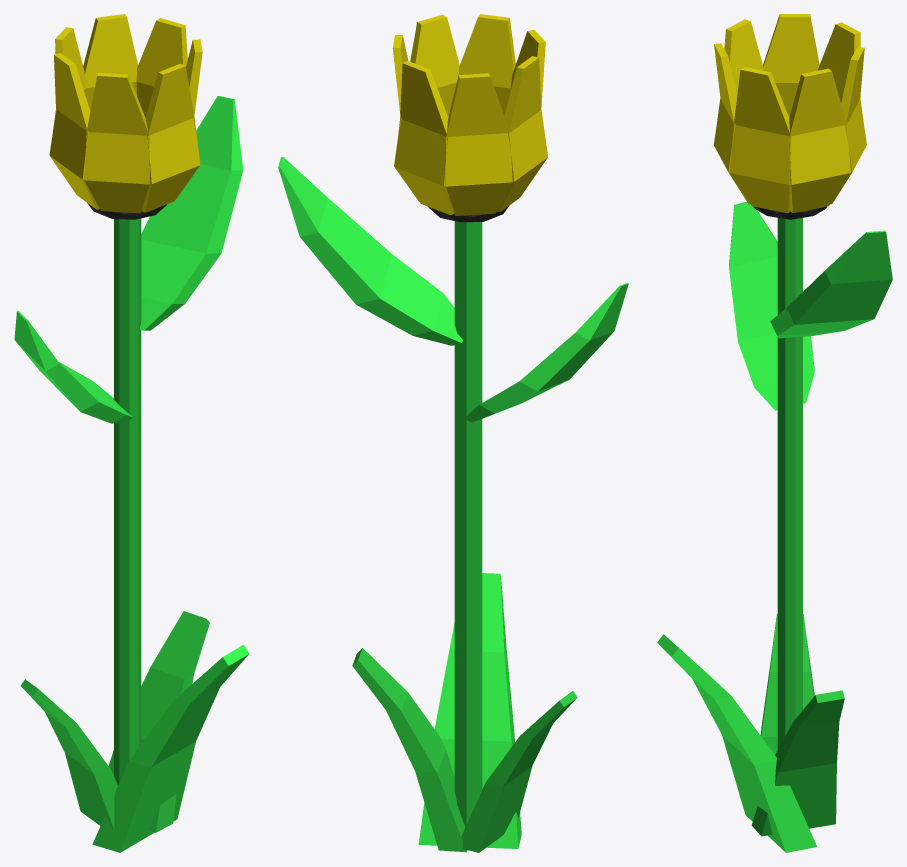
Rendered from sun flower 1.fbx.
3 renders of one model, left to right at view 1: azimuth 30°, elevation 25°; view 2: azimuth 150°, elevation 25°; view 3: azimuth 270°, elevation 25°, orthographic.
Parts seen in each view (by area): view 1: Cube, Cube.001, Cube.006, Cube.004, Cube.003, Cube.002, Cube.005, Icosphere; view 2: Cube, Cube.001, Cube.006, Cube.004, Cube.003, Cube.002, Cube.005; view 3: Cube, Cube.001, Cube.005, Cube.004, Cube.006, Cube.003, Cube.002, Icosphere.
Boxes of the visible parts, left/top/right/bottom form: Cube: left=49, top=14, right=202, bottom=213; Cube.001: left=114, top=218, right=141, bottom=785; Cube.006: left=139, top=96, right=243, bottom=330; Cube.004: left=92, top=644, right=249, bottom=852; Cube.003: left=108, top=611, right=209, bottom=832; Cube.002: left=20, top=679, right=118, bottom=829; Cube.005: left=14, top=310, right=133, bottom=423; Icosphere: left=87, top=203, right=166, bottom=219; Cube: left=392, top=14, right=547, bottom=215; Cube.001: left=454, top=221, right=482, bottom=826; Cube.006: left=278, top=157, right=462, bottom=345; Cube.004: left=418, top=573, right=521, bottom=848; Cube.003: left=352, top=648, right=467, bottom=852; Cube.002: left=461, top=691, right=577, bottom=852; Cube.005: left=464, top=283, right=628, bottom=422; Cube: left=713, top=14, right=866, bottom=213; Cube.001: left=777, top=217, right=802, bottom=749; Cube.005: left=729, top=201, right=814, bottom=410; Cube.004: left=657, top=634, right=817, bottom=852; Cube.006: left=770, top=230, right=892, bottom=338; Cube.003: left=751, top=690, right=844, bottom=836; Cube.002: left=760, top=614, right=814, bottom=754; Icosphere: left=753, top=206, right=827, bottom=219.
Bounding box in the file's own units: 73.84 × 200 × 54.55.
